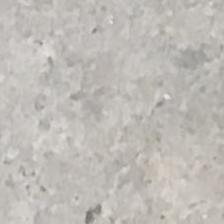Non_Crack: (30, 35, 198, 184)
